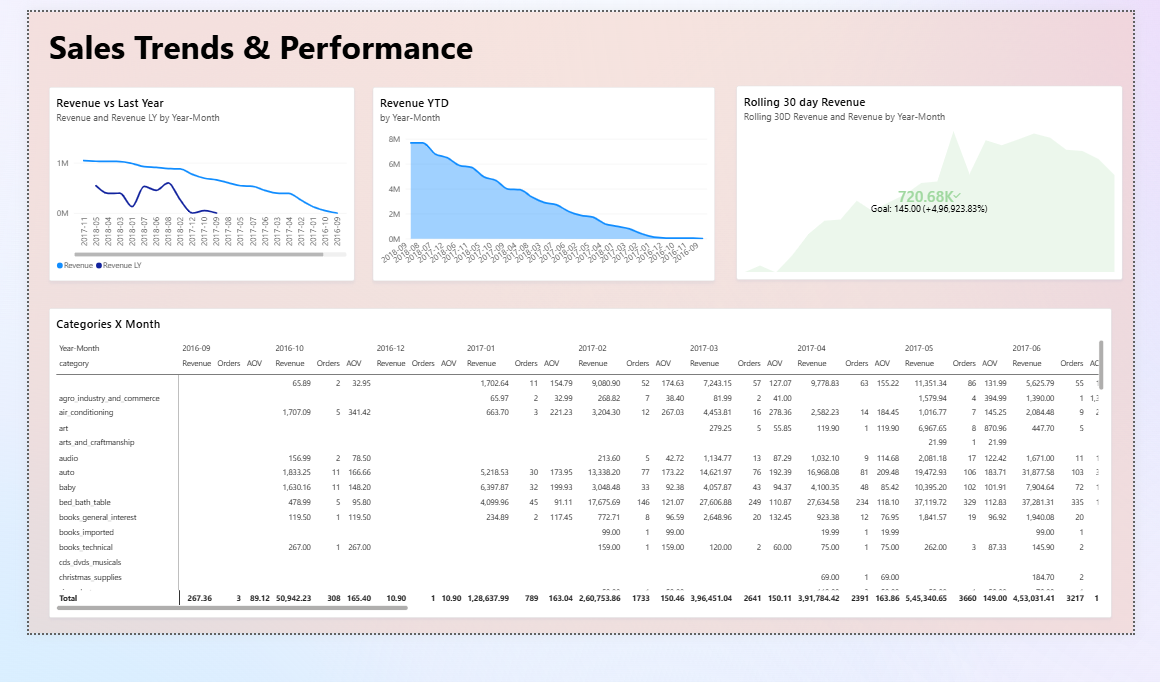

Layout of this report page (visuals, bound fields, positions):
{"tool":"powerbi","page":{"name":"Sales Trend","canvas":[1920,1080],"ordinal":1},"visuals":[{"type":"lineChart","title":"Revenue vs Last Year","fields":{"Category":["DimDate.Year-Month"],"Y":["public bi_fact_sales.Revenue","DimDate.Revenue LY"]},"box":[34.1,129.5,531,337.6],"z":0},{"type":"kpi","title":"Rolling 30 day Revenue","fields":{"Goal":["public bi_fact_sales.Revenue"],"Indicator":["DimDate.Rolling 30D Revenue"],"TrendLine":["DimDate.Year-Month"]},"box":[1229.5,127.3,671,337.6],"z":1},{"type":"stackedAreaChart","fields":{"Category":["DimDate.Year-Month"],"Y":["DimDate.Revenue YTD"]},"box":[597.7,129.5,594.9,337.6],"z":2},{"type":"pivotTable","title":"Categories X Month","fields":{"Columns":["DimDate.Year-Month"],"Rows":["public bi_fact_sales.category"],"Values":["public bi_fact_sales.Revenue","public bi_fact_sales.Orders","public bi_fact_sales.AOV"]},"box":[34.1,515.9,1847.7,538.6],"z":3},{"type":"textbox","box":[34.1,22.7,1865.9,104.5],"z":4}]}

Visuals, with their boxes on the page's 1920x1080 design canvas (x1, y1, x2, y2). These are canvas units, not pixel positions in the 1160x682 screenshot, which may show the page scaled, cropped or inside an application window:
"Revenue vs Last Year" lineChart: <bbox>34, 130, 565, 467</bbox>
"Rolling 30 day Revenue" kpi: <bbox>1230, 127, 1900, 465</bbox>
stackedAreaChart - DimDate.Year-Month x DimDate.Revenue YTD: <bbox>598, 130, 1193, 467</bbox>
"Categories X Month" pivotTable: <bbox>34, 516, 1882, 1054</bbox>
textbox: <bbox>34, 23, 1900, 127</bbox>
